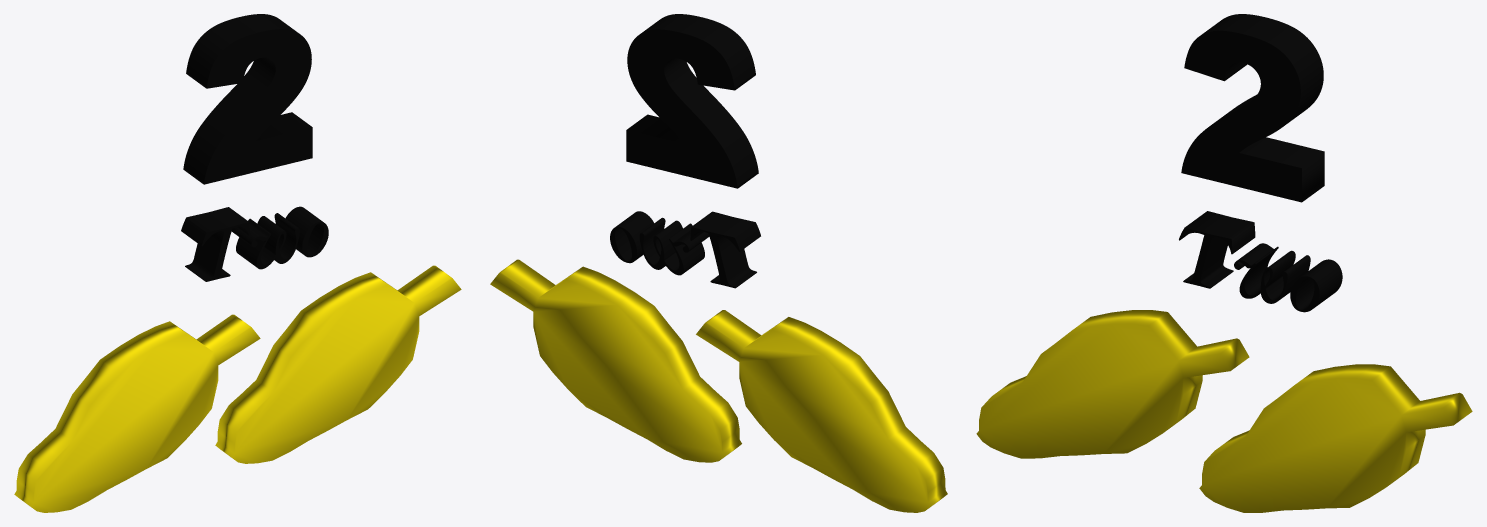
The model's file is Number_2.glb.
3 renders of one model, left to right at view 1: azimuth 30°, elevation 25°; view 2: azimuth 150°, elevation 25°; view 3: azimuth 330°, elevation 25°, orthographic. The views are drawn at different scales.
Parts seen in each view (by area): view 1: Cylinder.002, Cylinder.001, Text, Text.001; view 2: Cylinder.001, Cylinder.002, Text, Text.001; view 3: Cylinder.001, Cylinder.002, Text, Text.001.
Part boxes in pixels (bbox=[...]): Cylinder.002: bbox=[215, 265, 461, 463]; Cylinder.001: bbox=[14, 314, 260, 512]; Text: bbox=[183, 14, 312, 184]; Text.001: bbox=[181, 206, 328, 281]; Cylinder.001: bbox=[696, 310, 947, 512]; Cylinder.002: bbox=[490, 259, 741, 462]; Text: bbox=[626, 14, 758, 188]; Text.001: bbox=[610, 211, 760, 288]; Cylinder.001: bbox=[976, 310, 1249, 458]; Cylinder.002: bbox=[1199, 364, 1472, 512]; Text: bbox=[1181, 14, 1324, 202]; Text.001: bbox=[1179, 211, 1342, 312].
Size of the model in its own units: 1.45 by 1.37 by 0.1557.
